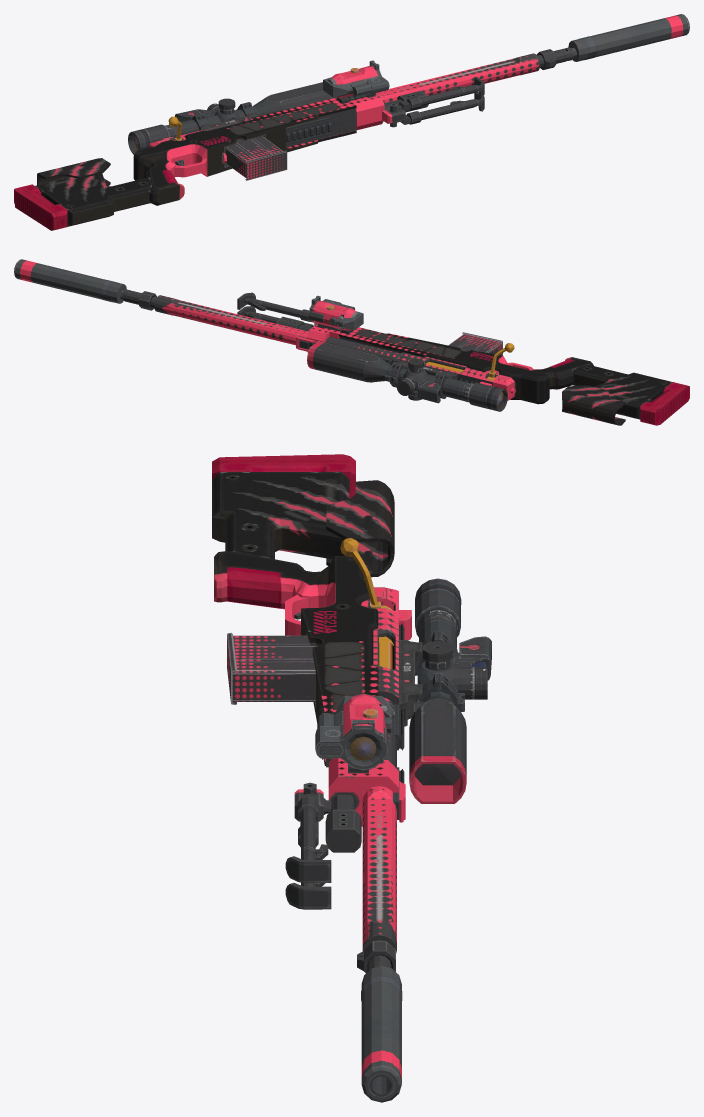
3 renders of one model, top to bottom at view 1: azimuth 30°, elevation 25°; view 2: azimuth 150°, elevation 25°; view 3: azimuth 270°, elevation 25°, orthographic. The views are drawn at different scales.
Visible parts, largest first — view 1: wp02a_a002a_sm.mo, wp02a_scope002a_sm.mo, wp02a_muzzle002a_sm.mo, wp02a_magazine002a_sm.mo, wp02a_attach002a_sm.mo; view 2: wp02a_a002a_sm.mo, wp02a_scope002a_sm.mo, wp02a_muzzle002a_sm.mo, wp02a_attach002a_sm.mo, wp02a_magazine002a_sm.mo; view 3: wp02a_a002a_sm.mo, wp02a_scope002a_sm.mo, wp02a_magazine002a_sm.mo, wp02a_muzzle002a_sm.mo, wp02a_attach002a_sm.mo.
Part boxes in pixels (bbox=[...]): wp02a_a002a_sm.mo: bbox=[14, 47, 576, 230]; wp02a_scope002a_sm.mo: bbox=[128, 82, 335, 154]; wp02a_muzzle002a_sm.mo: bbox=[568, 14, 689, 61]; wp02a_magazine002a_sm.mo: bbox=[225, 136, 287, 180]; wp02a_attach002a_sm.mo: bbox=[323, 60, 389, 98]; wp02a_a002a_sm.mo: bbox=[120, 289, 689, 425]; wp02a_scope002a_sm.mo: bbox=[307, 341, 507, 411]; wp02a_muzzle002a_sm.mo: bbox=[14, 259, 126, 303]; wp02a_attach002a_sm.mo: bbox=[308, 295, 363, 330]; wp02a_magazine002a_sm.mo: bbox=[448, 332, 502, 355]; wp02a_a002a_sm.mo: bbox=[212, 454, 411, 972]; wp02a_scope002a_sm.mo: bbox=[399, 578, 491, 803]; wp02a_magazine002a_sm.mo: bbox=[227, 632, 317, 704]; wp02a_muzzle002a_sm.mo: bbox=[361, 966, 402, 1102]; wp02a_attach002a_sm.mo: bbox=[315, 693, 394, 770].
Bounding box in the file's own units: 1.29 × 0.1102 × 0.2464.
Materials: 5 (5 with a texture image).
